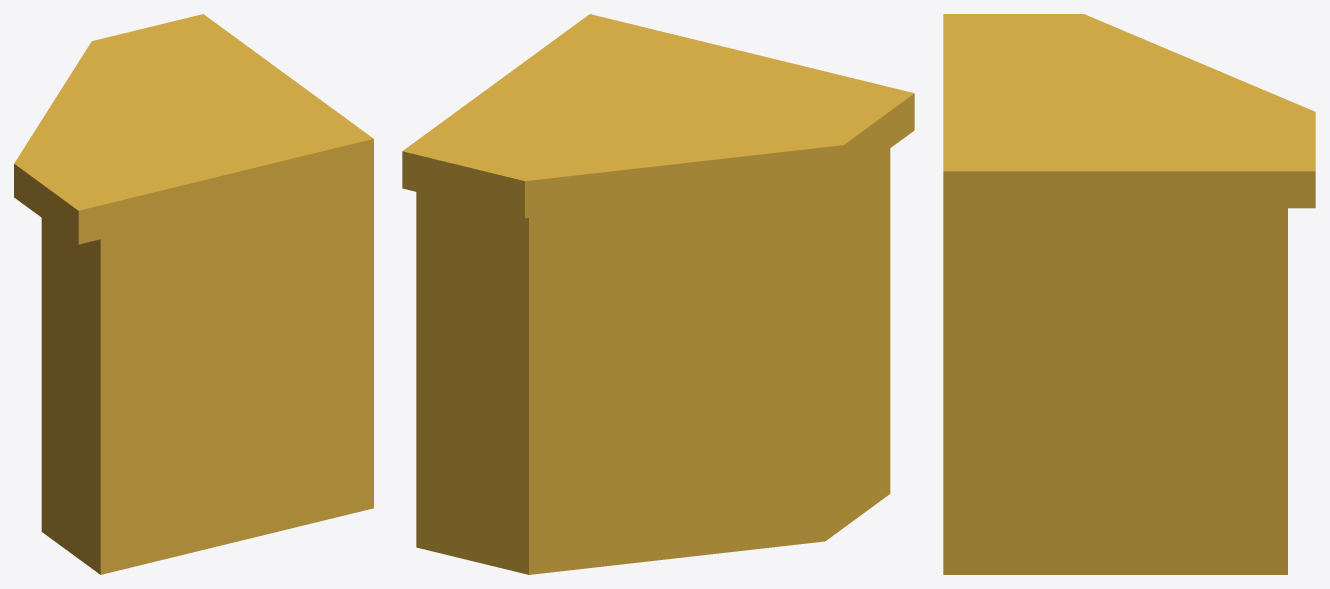
File: island_table_corner.fbx
3 views of the same model, side by side, from view 1: azimuth 30°, elevation 25°; view 2: azimuth 150°, elevation 25°; view 3: azimuth 270°, elevation 25° (orthographic). The views are drawn at different scales.
Visible parts, largest first — view 1: island_table_corner; view 2: island_table_corner; view 3: island_table_corner.
Boxes of the visible parts, box(x1,y1,x2,y2) form: island_table_corner: box(14, 14, 373, 574); island_table_corner: box(402, 14, 914, 574); island_table_corner: box(943, 14, 1315, 574).
Bounding box in the file's own units: 29.63 × 29.63 × 35.43.
